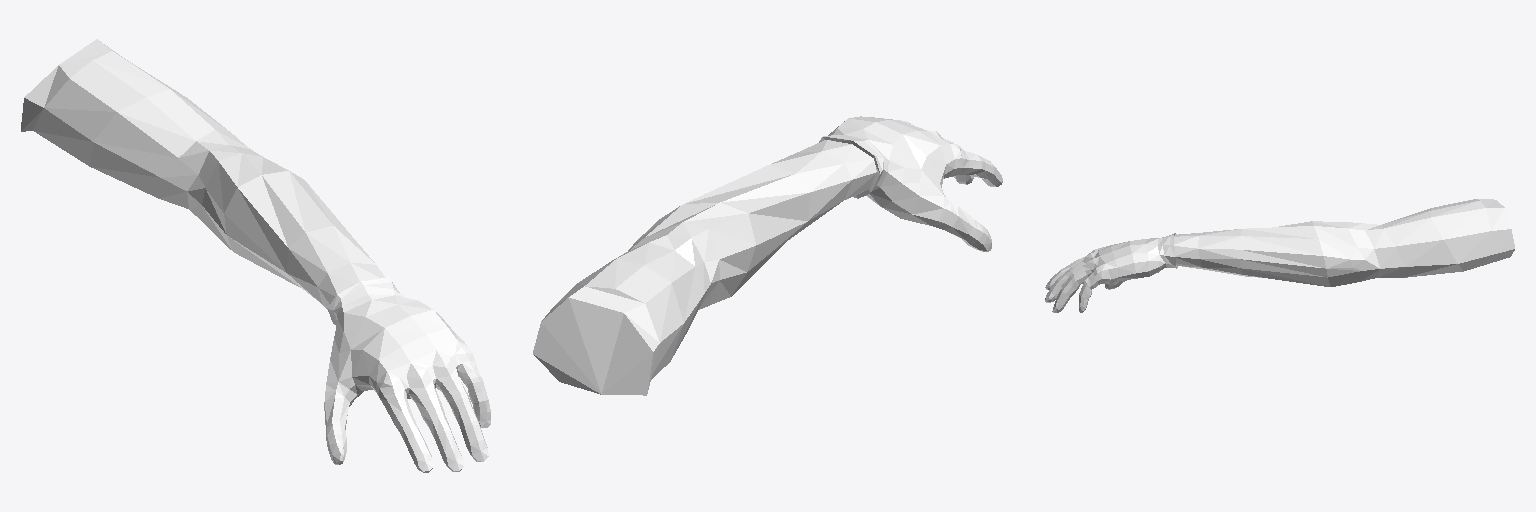
robot.urdf — arm:
<?xml version="1.0" ?>
<robot name="arm">
  <link name="baseLink">
    <contact>
      <lateral_friction value="0.5"/>
      <rolling_friction value="0.0"/>
      <contact_cfm value="0.0"/>
      <contact_erp value="1.0"/>
    </contact>
    <inertial>
      <origin rpy="0 0 0" xyz="0.07 0.05 0.03"/>
       <mass value="3.0"/>
       <inertia ixx="1" ixy="0" ixz="0" iyy="1" iyz="0" izz="1"/>
    </inertial>
    <visual>
      <origin rpy="0 0 0" xyz="0 0 0"/>
      <geometry>
        <mesh filename="arm.obj" scale=".06 .06 .06"/>
      </geometry>
      <material name="white" >
        <color rgba="1 1 1 1" />
      </material>
    </visual>
    <collision>
      <origin rpy="0 0 0" xyz="0 0 0"/>
      <geometry>
	 	<mesh filename="arm_coll.obj" scale=".06 .06 .06"/>
      </geometry>
    </collision>
  </link>
</robot>

--- Facts derived from the render (not from the file) ---
Views: 3 orthographic renders of the robot side by side, from view 1: azimuth 30°, elevation 25°; view 2: azimuth 150°, elevation 25°; view 3: azimuth 270°, elevation 25°.
Model arm with 1 links and 0 joints (none), rooted at baseLink, posed all joints at 0.
Links seen in each view (by area): view 1: baseLink; view 2: baseLink; view 3: baseLink.
Boxes of the visible links, x1=… form: baseLink: x1=21, y1=39, x2=490, y2=472; baseLink: x1=533, y1=116, x2=1002, y2=395; baseLink: x1=1045, y1=199, x2=1514, y2=312.
Bounding box of the posed robot: 0.105 × 0.461 × 0.1143 m (x, y, z).
1 mesh visuals loaded from 1 distinct referenced files (1 OBJ).